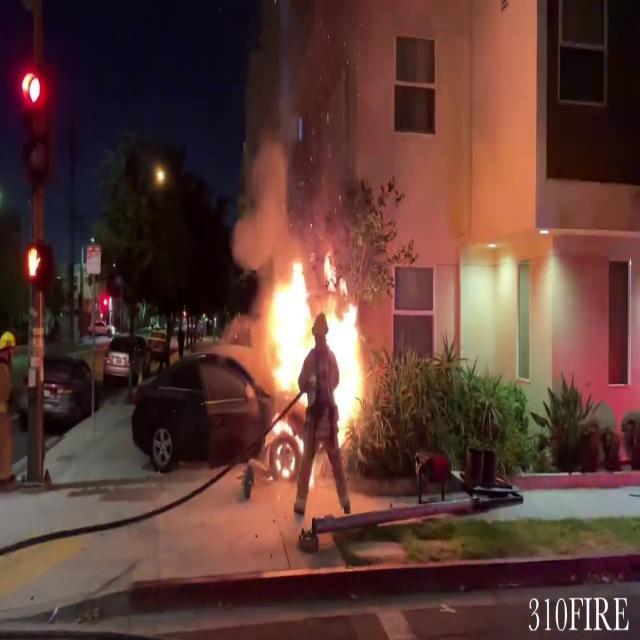Fire: (258, 248, 374, 468)
Smoke: (233, 3, 307, 264)
